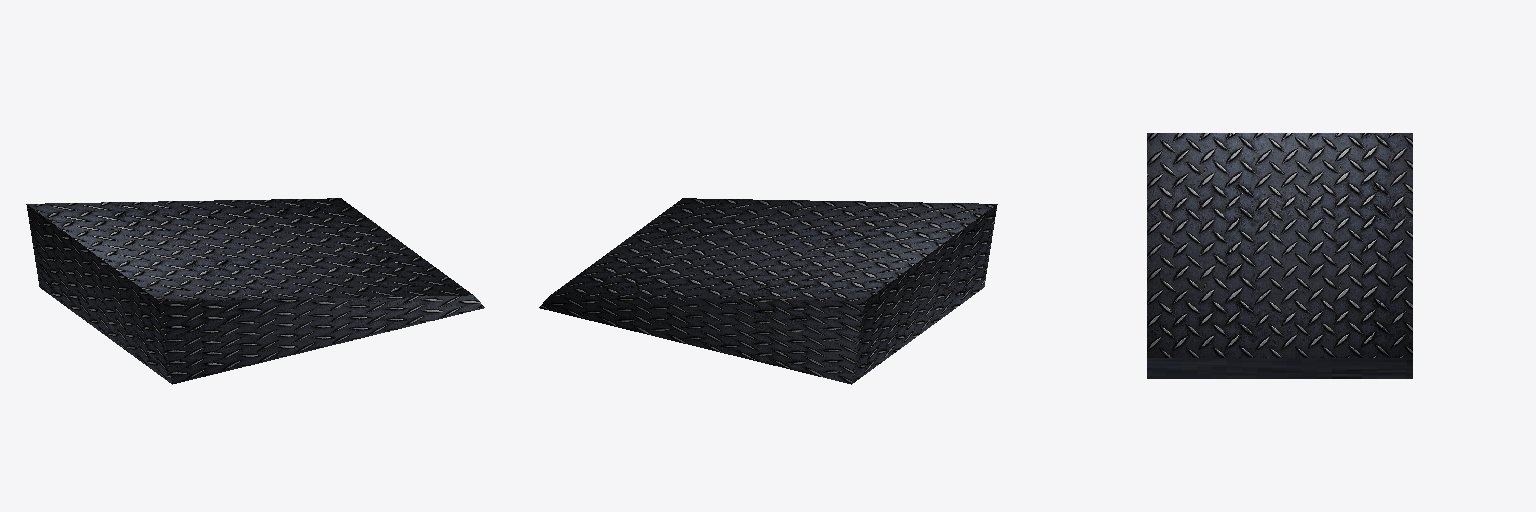
The picture shows the model from 3 angles: view 1: azimuth 30°, elevation 25°; view 2: azimuth 150°, elevation 25°; view 3: azimuth 270°, elevation 25°; orthographic projection.
Parts seen in each view (by area): view 1: Ramp_Cube; view 2: Ramp_Cube; view 3: Ramp_Cube.
Part boxes in pixels (bbox=[...]): Ramp_Cube: bbox=[26, 198, 484, 384]; Ramp_Cube: bbox=[539, 198, 997, 384]; Ramp_Cube: bbox=[1147, 133, 1412, 378].
Bounding box in the file's own units: 57.72 × 14.67 × 40.62.
Materials: 1 (1 with a texture image).